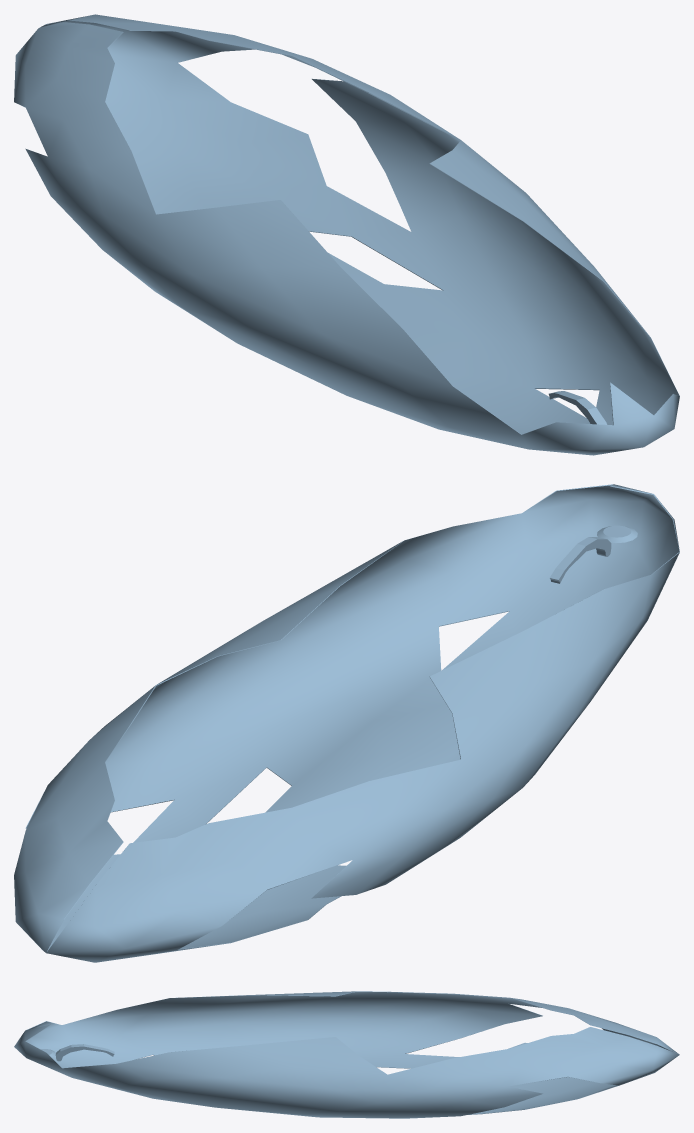
File: body.FBX
3 views of the same model, one above another, from view 1: azimuth 30°, elevation 25°; view 2: azimuth 150°, elevation 25°; view 3: azimuth 270°, elevation 25° (orthographic). The views are drawn at different scales.
Visible parts, largest first — view 1: body; view 2: body; view 3: body.
Boxes of the visible parts, x1,y1,x2,y2 form: body: [14, 14, 679, 455]; body: [14, 484, 679, 962]; body: [14, 991, 679, 1118].
Bounding box in the file's own units: 0.1651 × 0.4825 × 0.0587.
